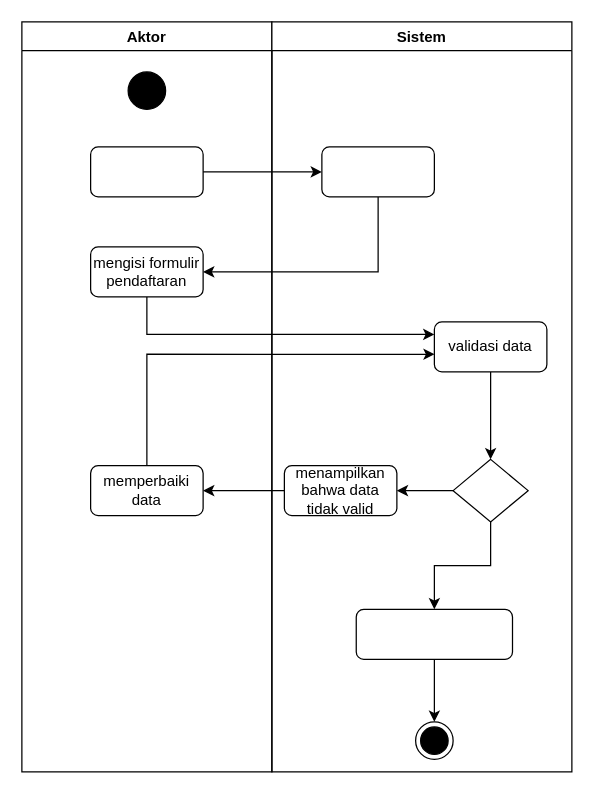
Some shapes in this 594 by 794 pixel diagram are drawn without their labels. The shapes that lost their labels are listed below. From the top down, each one's centre as x and y in pixels, then its label:
At [146,171]: "pilih menu daftar".
At [377,171]: "menampilkan formulir pendaftaran".
At [433,633]: "simpan data dan menampilkan pendaftaran berhasil".
